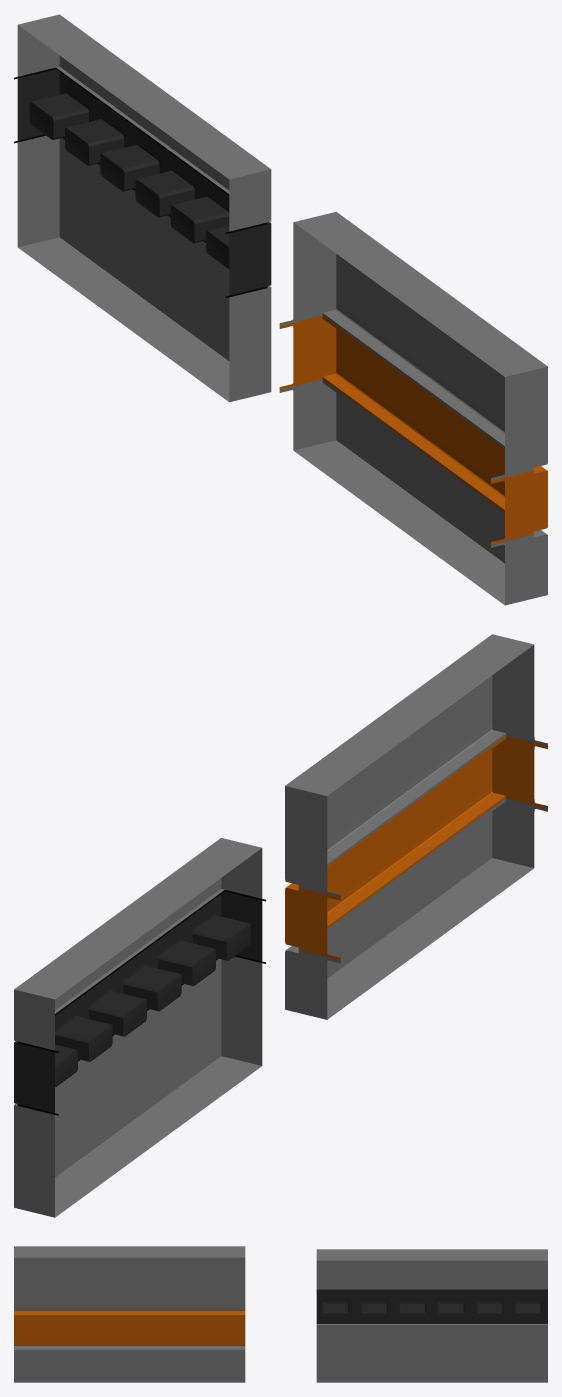
File: high_mur_01.fbx
3 views of the same model, one above another, from view 1: azimuth 30°, elevation 25°; view 2: azimuth 150°, elevation 25°; view 3: azimuth 270°, elevation 25° (orthographic). The views are drawn at different scales.
Parts seen in each view (by area): view 1: high_mur_bas_01, high_mur_haut_01; view 2: high_mur_bas_01, high_mur_haut_01; view 3: high_mur_bas_01, high_mur_haut_01.
Boxes of the visible parts, bbox=[...] form: high_mur_bas_01: bbox=[279, 211, 547, 605]; high_mur_haut_01: bbox=[14, 14, 271, 402]; high_mur_bas_01: bbox=[285, 634, 547, 1019]; high_mur_haut_01: bbox=[14, 838, 265, 1217]; high_mur_bas_01: bbox=[14, 1246, 245, 1382]; high_mur_haut_01: bbox=[316, 1249, 547, 1382].
Size of the model in its own units: 76.8 by 295 by 1142.
